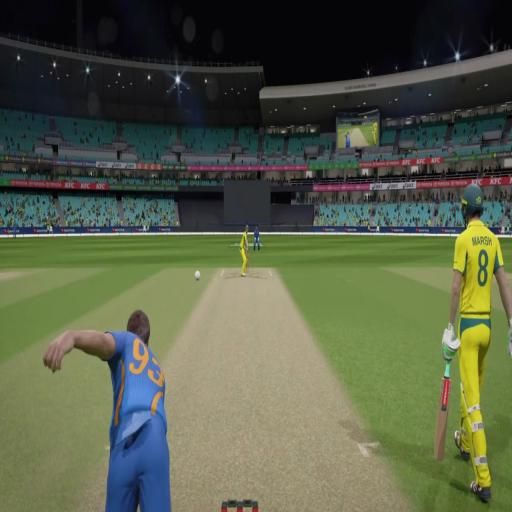ball: (194, 267, 202, 283)
